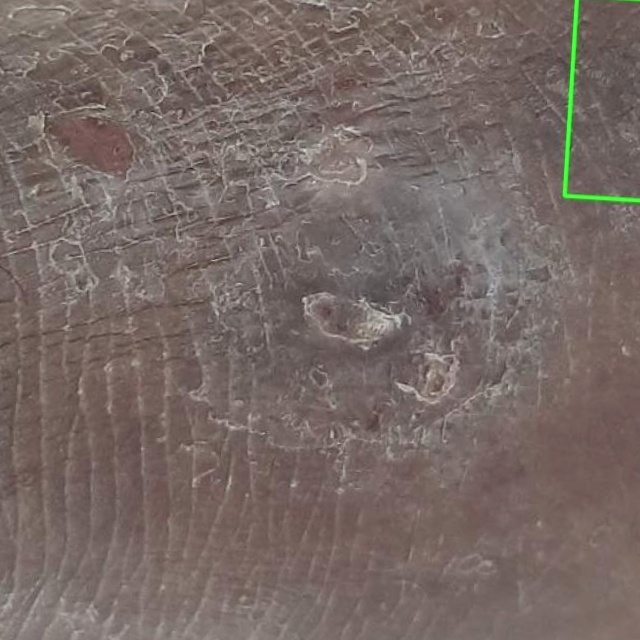Eczema: (564, 0, 639, 200)
